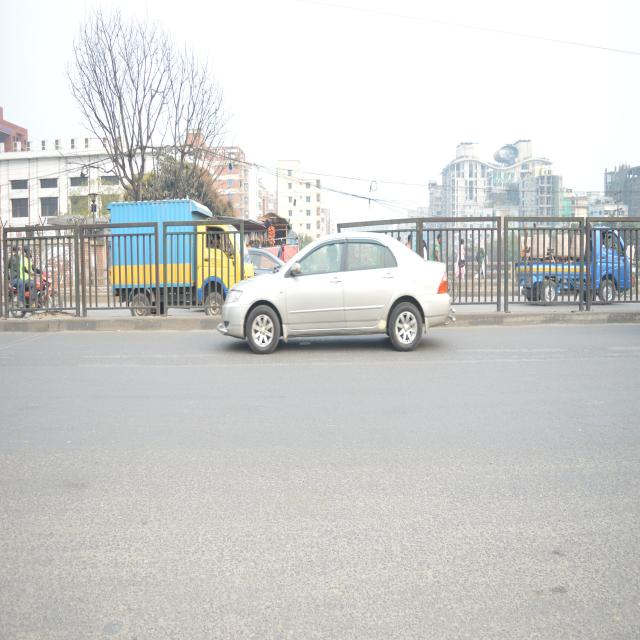car: (219, 230, 455, 351)
pickup-van: (110, 197, 244, 318), (516, 225, 632, 304)
